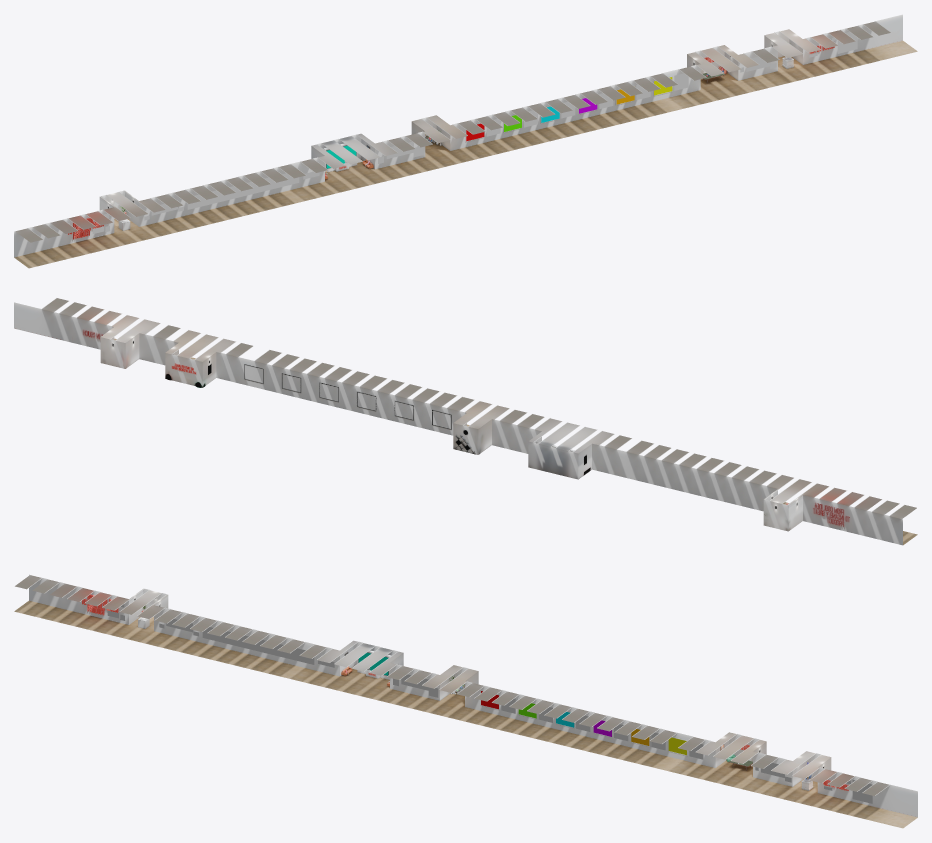
The model's file is landscape.glb.
The picture shows the model from 3 angles, top to bottom: view 1: azimuth 30°, elevation 25°; view 2: azimuth 150°, elevation 25°; view 3: azimuth 330°, elevation 25°; orthographic projection.
Visible parts, largest first — view 1: Tex_4k_01.003, FloorMirror, DesktopWall_001, DesktopWall_002, services_text_block; view 2: Tex_4k_01.003, DesktopWall_001, DesktopWall_002; view 3: Tex_4k_01.003, FloorMirror, DesktopWall_002, DesktopWall_001, services_text_block.
Boxes of the visible parts, bbox=[...] form: Tex_4k_01.003: bbox=[15, 21, 890, 242]; FloorMirror: bbox=[14, 40, 917, 268]; DesktopWall_001: bbox=[14, 210, 114, 257]; DesktopWall_002: bbox=[803, 14, 902, 64]; services_text_block: bbox=[187, 173, 299, 209]; Tex_4k_01.003: bbox=[42, 298, 916, 531]; DesktopWall_001: bbox=[803, 495, 902, 545]; DesktopWall_002: bbox=[14, 302, 113, 349]; Tex_4k_01.003: bbox=[15, 575, 889, 796]; FloorMirror: bbox=[14, 600, 917, 828]; DesktopWall_002: bbox=[817, 767, 917, 817]; DesktopWall_001: bbox=[29, 574, 128, 624]; services_text_block: bbox=[202, 627, 314, 664].
Size of the model in its own units: 20344 by 585 by 1209.
9 materials, 2 textured.
